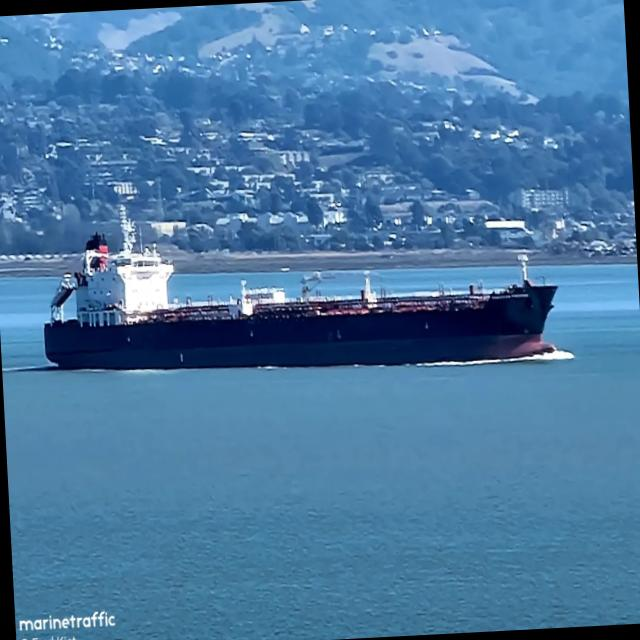Tanker: (44, 211, 557, 369)
